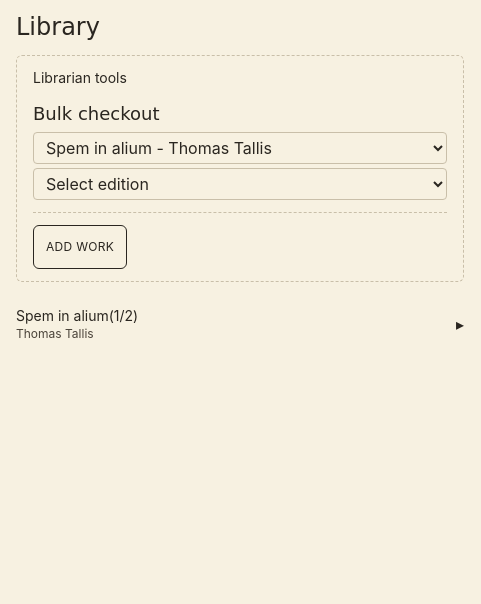
Scenario: #76 — inline checkout on browse tree › an AVAILABLE copy row shows an inline member dropdown for a librarian; a lent copy row does not
The image size is (481, 604).
What coordinates should you click on to do the following:
click the button with test id "library-work-toggle-work-1"
I would click on:
 (62, 316)
Its box is [16,306,464,342].
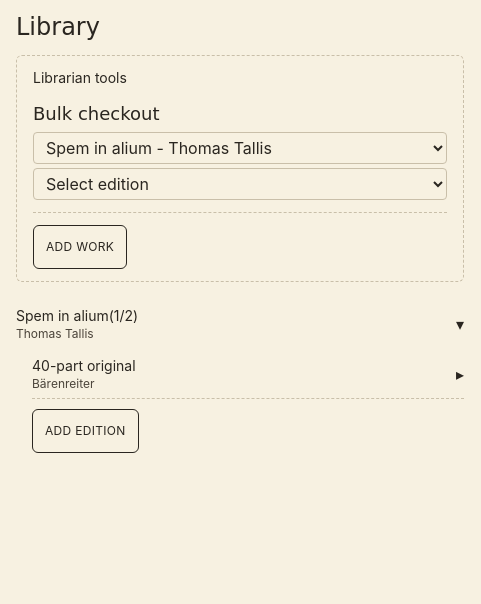
expect the button with test id "library-edition-toggle-edition-1" is shown: met
What coordinates should you click on to do the following:
click the button with test id "library-edition-toggle-edition-1"
I would click on:
 (84, 366)
Its box is [32,356,464,392].
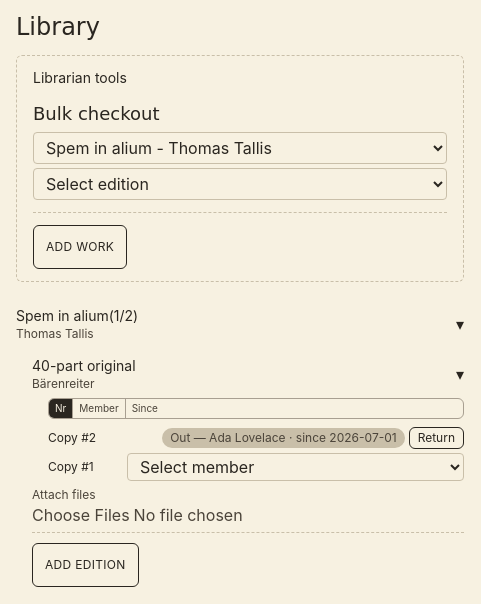
expect the element with test id "library-copy-copy-1" is shown: met, box [48,453,464,481]
expect the dropdown with test id "inline-checkout-copy-1" is shown: met, box [127,453,464,481]
